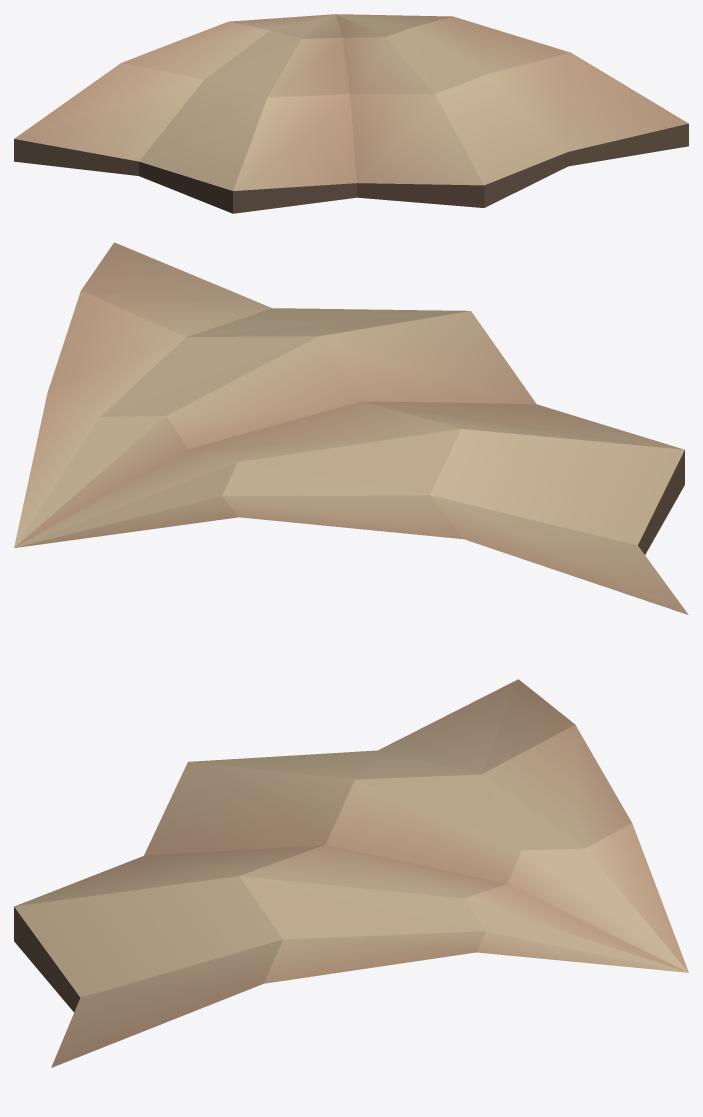
The model's file is beach-shell-chip-v1.glb.
3 views of the same model, one above another, from view 1: azimuth 30°, elevation 25°; view 2: azimuth 150°, elevation 25°; view 3: azimuth 270°, elevation 25° (orthographic). The views are drawn at different scales.
Visible parts, largest first — view 1: beach-shell-chip-v1; view 2: beach-shell-chip-v1; view 3: beach-shell-chip-v1.
Boxes of the visible parts, box(x1,y1,x2,y2) form: beach-shell-chip-v1: box(14, 14, 688, 213); beach-shell-chip-v1: box(14, 242, 688, 614); beach-shell-chip-v1: box(14, 679, 688, 1067).
Bounding box in the file's own units: 0.6095 × 0.0607 × 0.4471.
